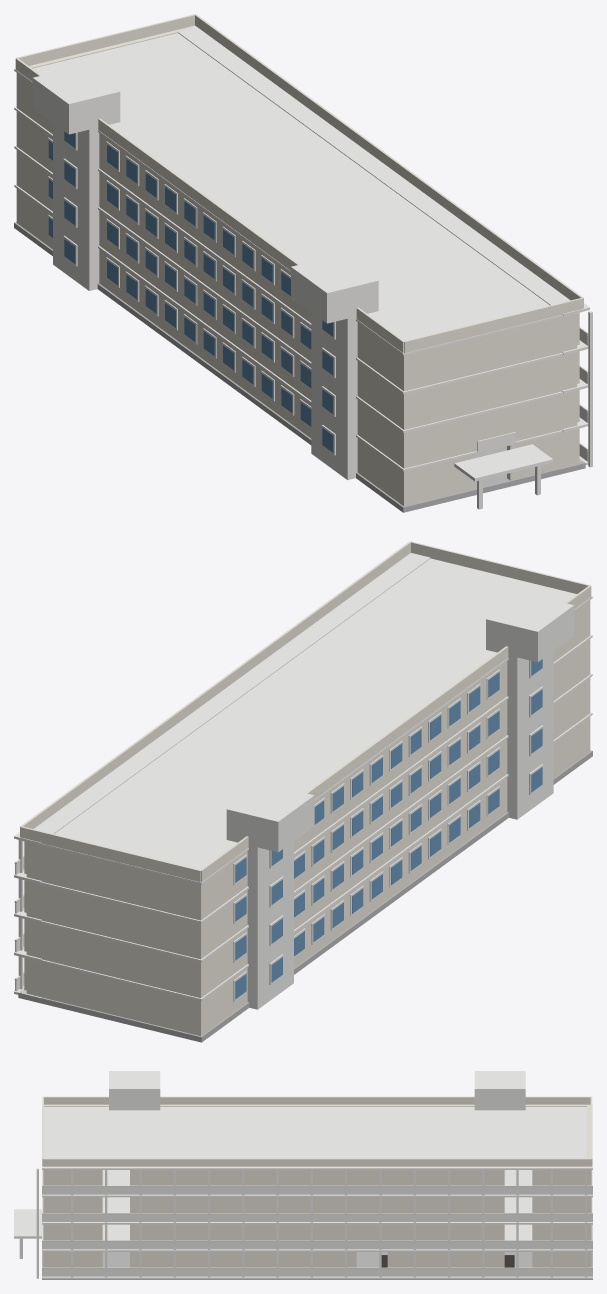
File: teachB.glb
3 views of the same model, one above another, from view 1: azimuth 30°, elevation 25°; view 2: azimuth 150°, elevation 25°; view 3: azimuth 270°, elevation 25° (orthographic). The views are drawn at different scales.
Visible parts, largest first — view 1: p119, p1, p5, p240, p120, p130, p328, p121, p131, p115, p327, p326 (+8 smaller); view 2: p119, p1, p2, p240, p120, p130, p328, p121, p131, p327, p115, p325 (+4 smaller); view 3: p119, p11, p14, p17, p241, p247, p328, p243, p245, p327, p8, p240 (+26 smaller).
Boxes of the visible parts, x1,y1,x2,y2 form: p119: (14,33,582,355); p1: (16,73,409,506); p5: (409,313,577,466); p240: (176,25,589,316); p120: (53,123,99,290); p130: (311,312,357,479); p328: (195,14,583,307); p121: (32,65,120,134); p131: (291,254,378,323); p115: (14,222,585,512); p327: (15,58,403,352); p326: (404,297,583,353); p119: (19,558,592,884); p1: (195,600,590,1035); p2: (26,842,195,1034); p240: (14,553,430,844); p120: (247,841,293,1009); p130: (507,651,553,819); p328: (20,541,410,836); p121: (226,782,314,852); p131: (486,592,574,662); p327: (201,585,591,881); p115: (18,750,592,1042); p325: (20,826,200,882); p119: (42,1105,592,1158); p11: (130,1224,504,1240); p14: (130,1197,504,1212); p17: (130,1170,504,1185); p241: (42,1267,592,1276); p247: (42,1185,592,1194); p328: (43,1158,591,1166); p243: (42,1240,592,1249); p245: (42,1213,592,1221); p327: (43,1096,591,1104); p8: (130,1252,356,1267); p240: (42,1159,592,1169).
Bounding box in the file's own units: 19.27 × 16.4 × 63.35.
